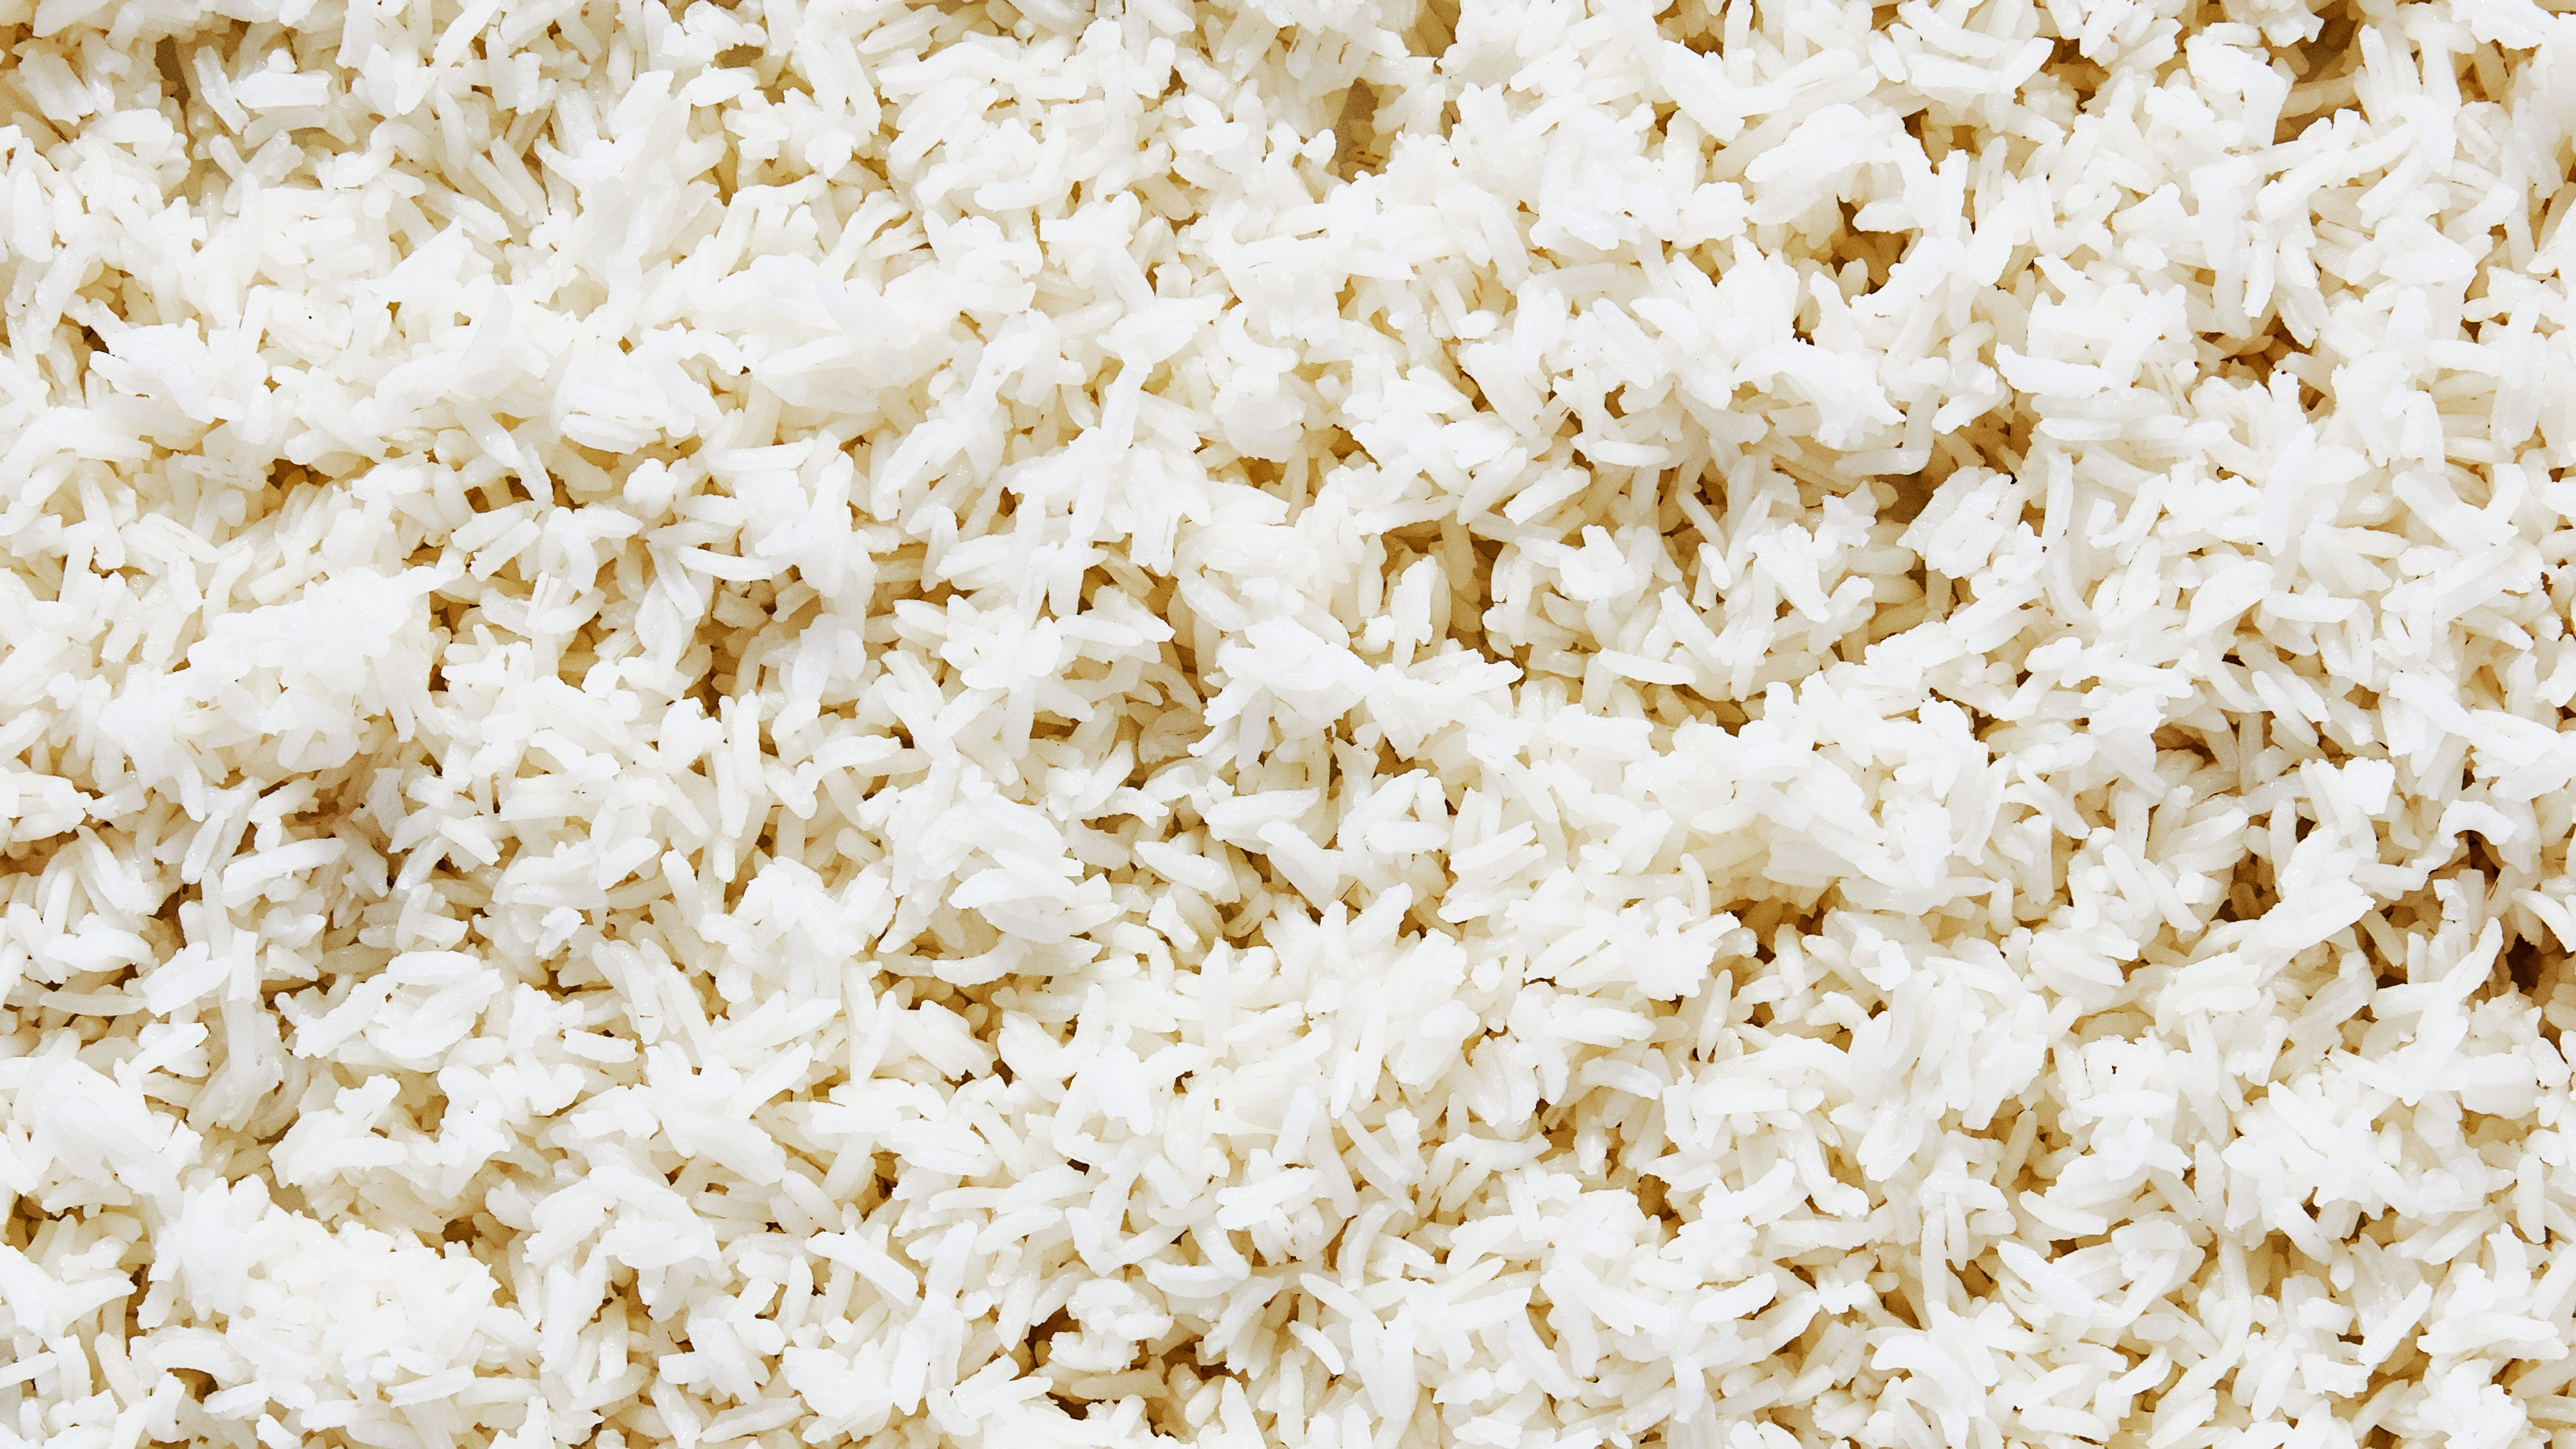rice: (27, 90, 2564, 1412)
